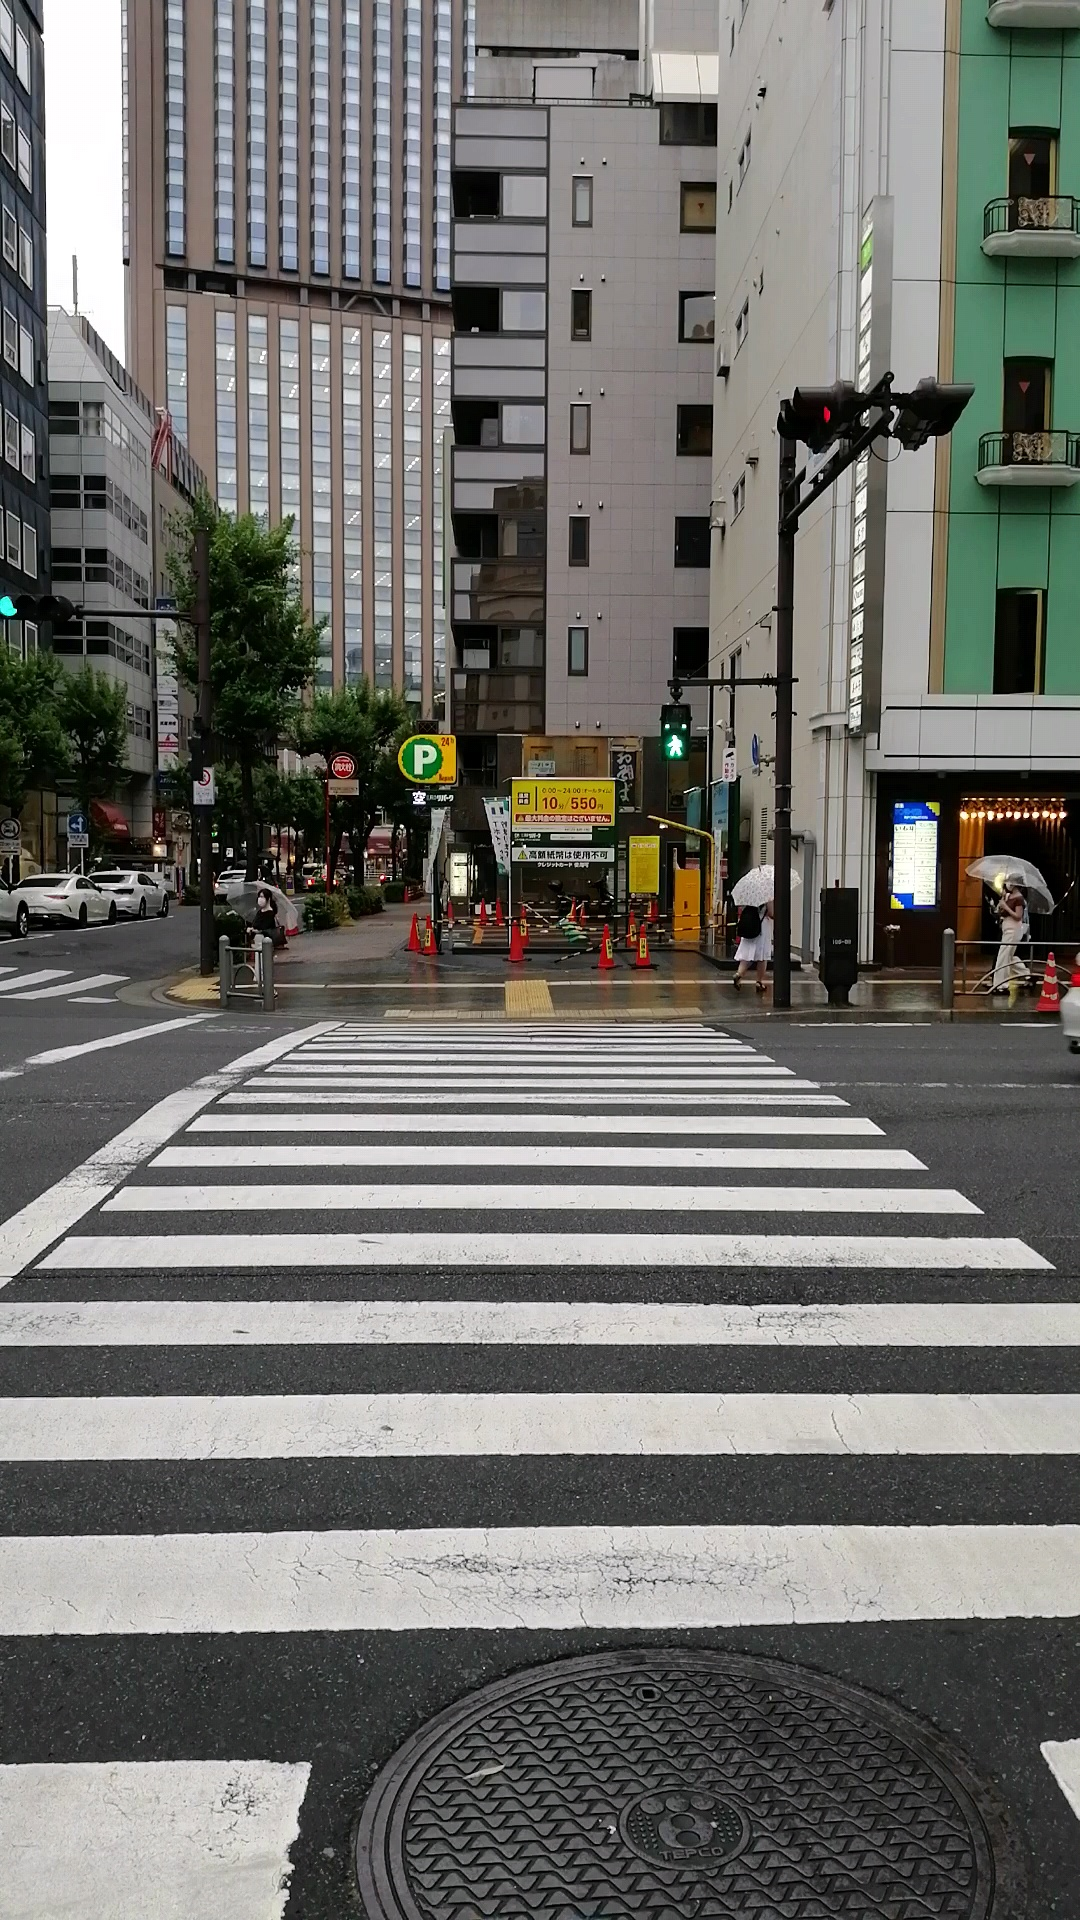green: (658, 703, 692, 764)
